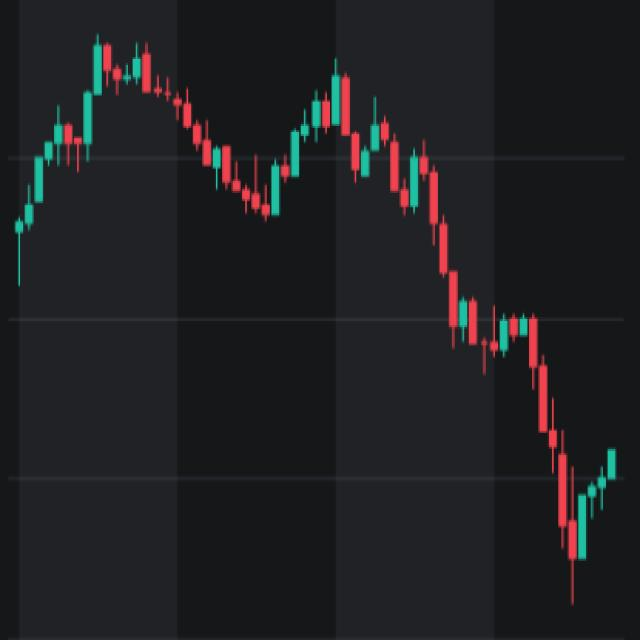Support-breakout: (266, 75, 582, 570)
